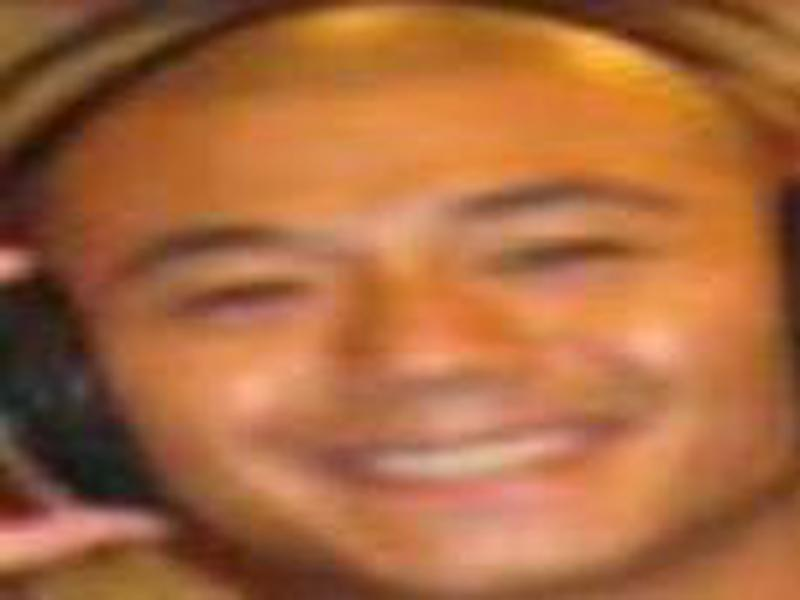without_mask: (74, 74, 768, 578)
